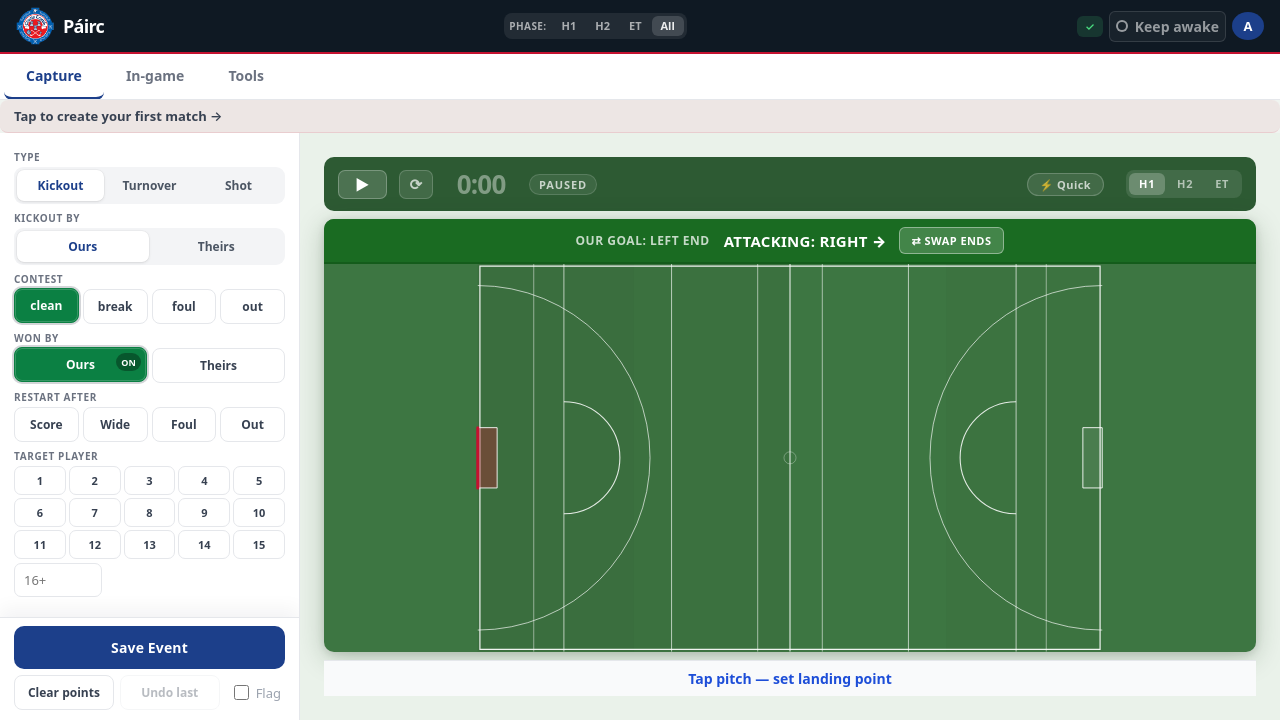
Test case: App shell auth and sync › blocks saving until a match exists and opens the match picker in create mode
Click the button "Save Event" at [150, 648], box [14, 626, 285, 669]
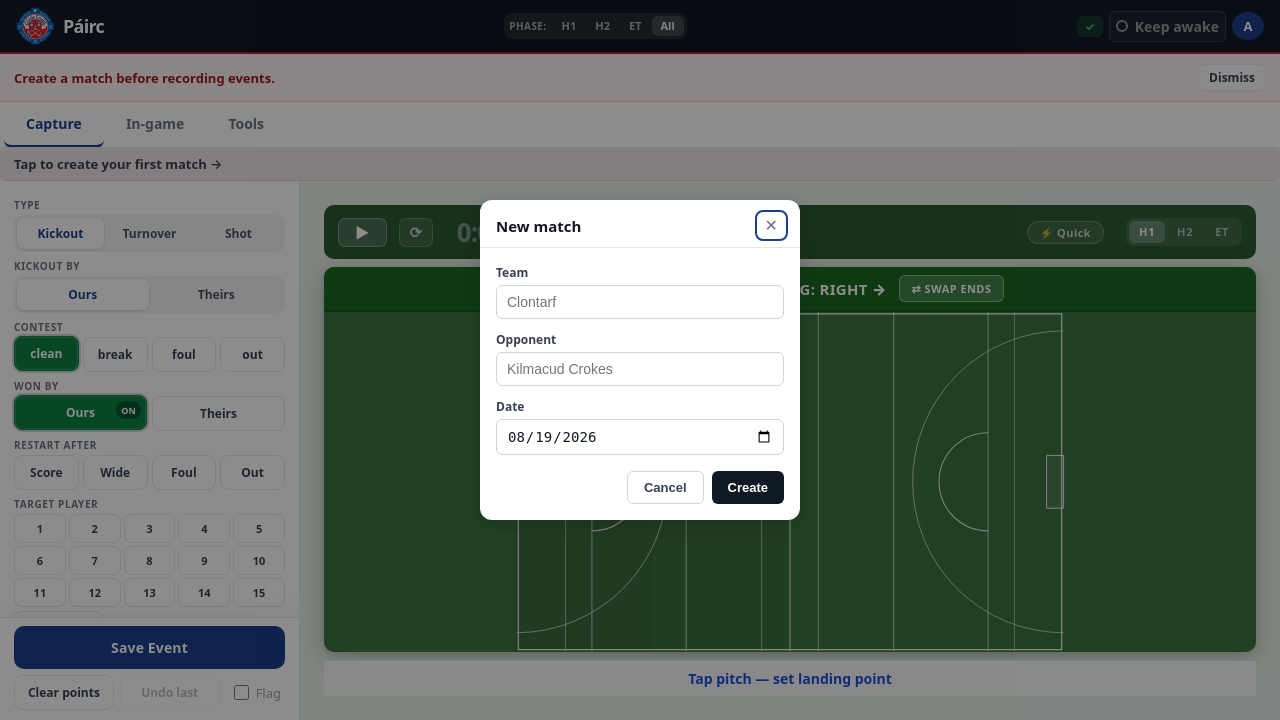
Expected: the text "Create a match before recording events." is shown, [14, 68, 275, 86]
Expected: the dialog named "Match picker" is shown, [480, 200, 800, 520]
Expected: the text "New match" is shown, [496, 216, 581, 236]
